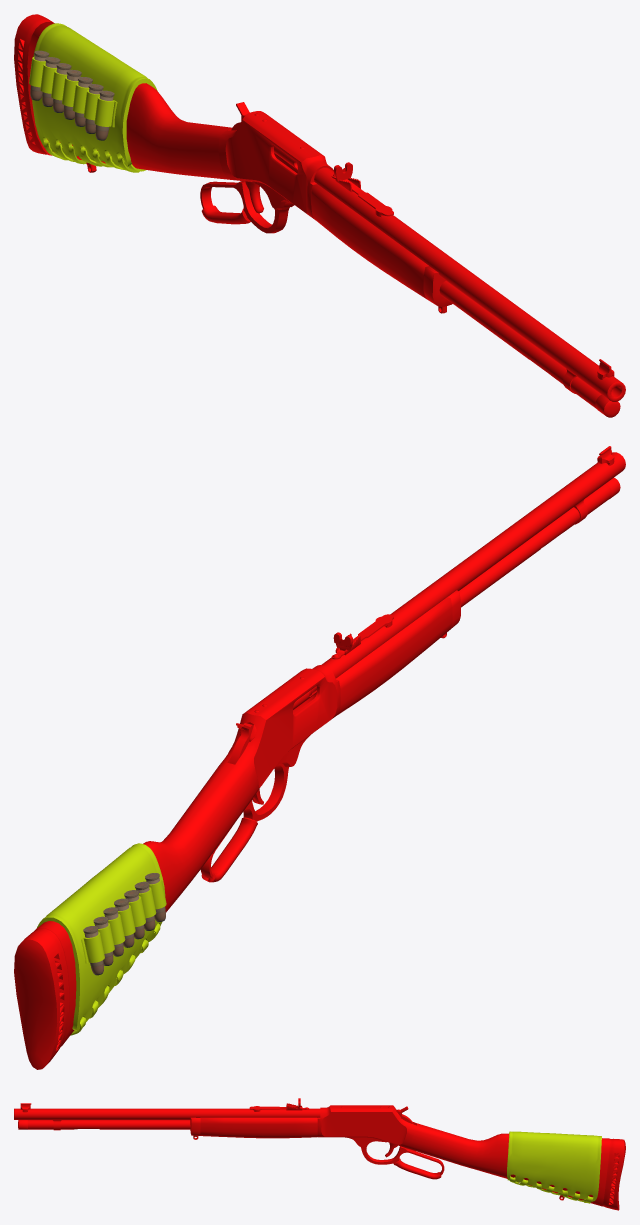
Rendered from Henry_SF.fbx.
3 renders of one model, top to bottom at view 1: azimuth 30°, elevation 25°; view 2: azimuth 150°, elevation 25°; view 3: azimuth 270°, elevation 25°, orthographic. The views are drawn at different scales.
Parts seen in each view (by area): view 1: Object033, Object023tr, Object, Object035, Object034, Object037, Object036; view 2: Object033, Object023tr, Object035, Object, Object034, Object037, Object036; view 3: Object033, Object023tr, Object, Object035, Object034, Object036.
Part boxes in pixels (x1,y1,x2,y2): Object033: [27, 21, 452, 306]; Object023tr: [29, 23, 157, 172]; Object: [314, 167, 625, 401]; Object035: [14, 14, 620, 417]; Object034: [331, 174, 601, 408]; Object037: [30, 50, 114, 140]; Object036: [201, 146, 614, 379]; Object033: [34, 590, 460, 1046]; Object023tr: [37, 843, 166, 1035]; Object035: [14, 452, 620, 1069]; Object: [321, 452, 625, 678]; Object034: [331, 484, 611, 659]; Object037: [83, 873, 165, 975]; Object036: [201, 446, 614, 882]; Object033: [190, 1105, 610, 1206]; Object023tr: [507, 1131, 601, 1203]; Object: [14, 1108, 320, 1119]; Object035: [18, 1103, 625, 1210]; Object034: [28, 1103, 309, 1129]; Object036: [20, 1098, 441, 1179].
Size of the model in its own units: 5.98 by 19.62 by 98.77.
